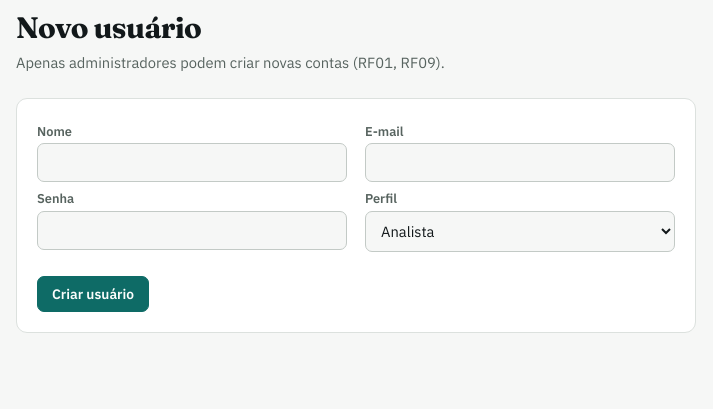
Scenario: CreateUserPage › cria um novo usuário e mostra confirmação sem navegar para fora da página
Type "Novo Usuário" into the field labelled "Nome".
click(192, 163); type("Novo Usuário")  # box x1=37 y1=143 x2=347 y2=182
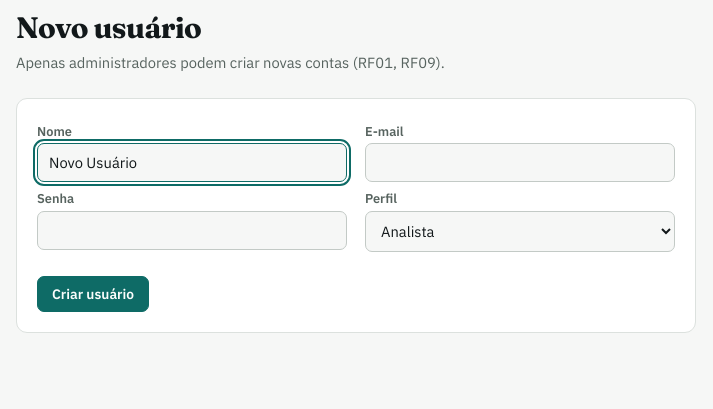
Type "novo@campanhacerta.com" into the field labelled "E-mail".
click(520, 163); type("novo@campanhacerta.com")  # box x1=365 y1=143 x2=675 y2=182
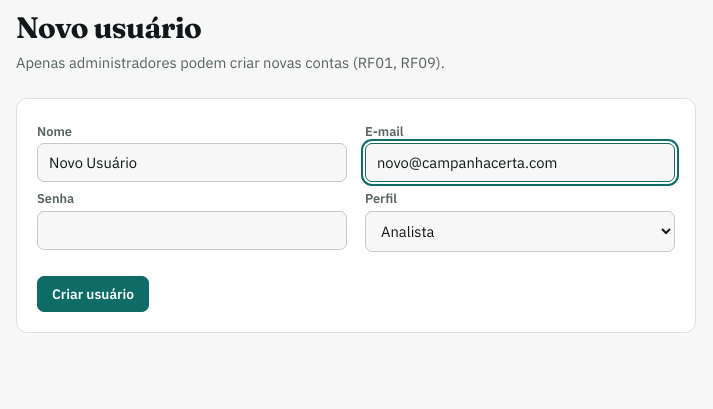
Type "senha123" into the password field labelled "Senha".
click(192, 230); type("senha123")  # box x1=37 y1=211 x2=347 y2=250
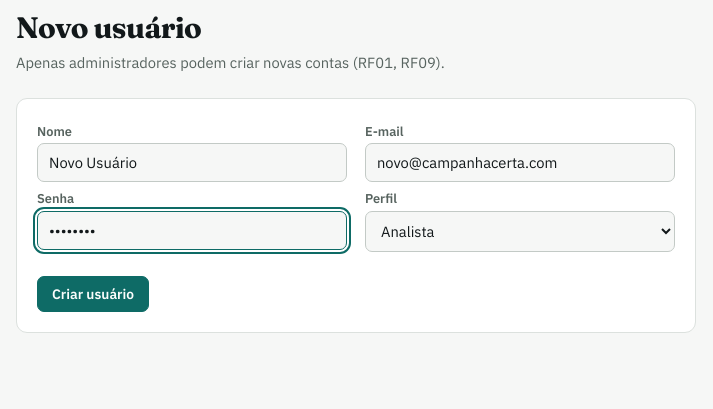
Click the button "Criar usuário".
click(93, 294)  # box x1=37 y1=276 x2=149 y2=312
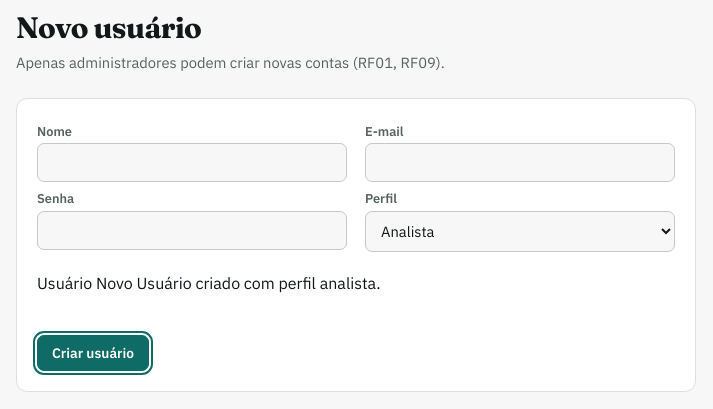
Now the message shows "Novo Usuário criado", box x1=37 y1=273 x2=381 y2=293
